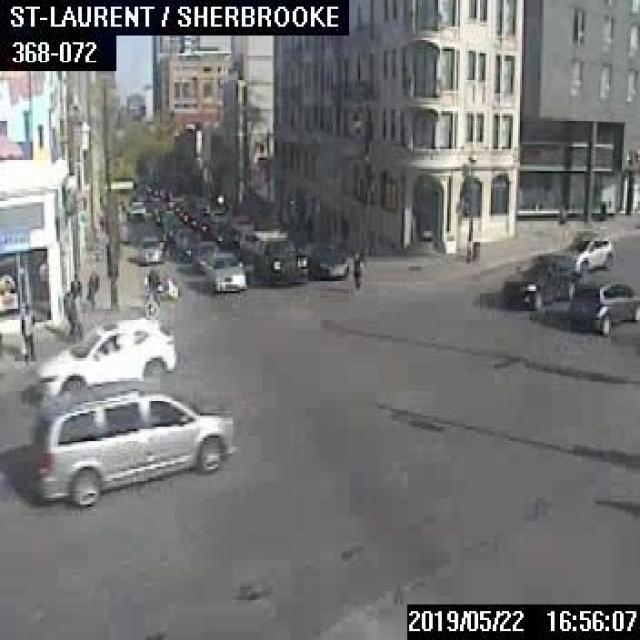cyclist: (142, 267, 162, 319)
pedestrian: (18, 300, 35, 361), (61, 290, 80, 338), (158, 226, 175, 258), (84, 269, 97, 308), (351, 247, 362, 289), (69, 271, 80, 296)
vehicle: (31, 377, 233, 502), (34, 316, 176, 398), (501, 252, 584, 308), (567, 282, 638, 334), (251, 228, 306, 285), (561, 232, 611, 274), (202, 250, 245, 290), (306, 240, 348, 276), (190, 238, 218, 271), (136, 231, 162, 262), (178, 230, 202, 260), (126, 200, 146, 220)
